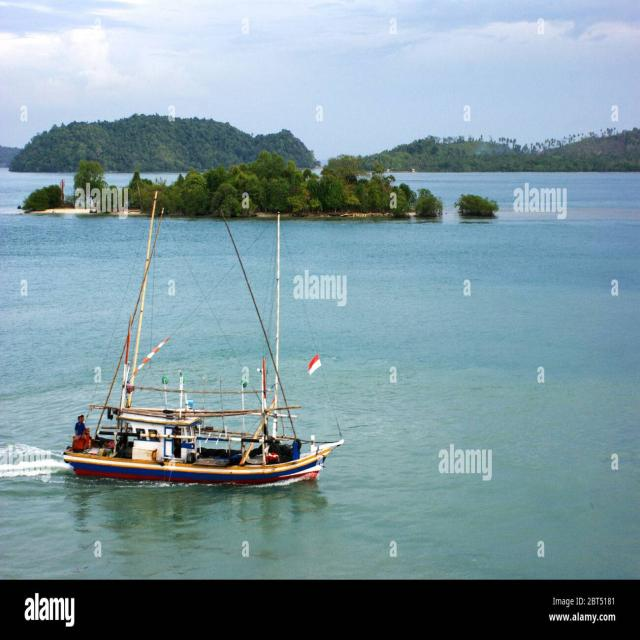Fishing Boat: (37, 152, 326, 493)
